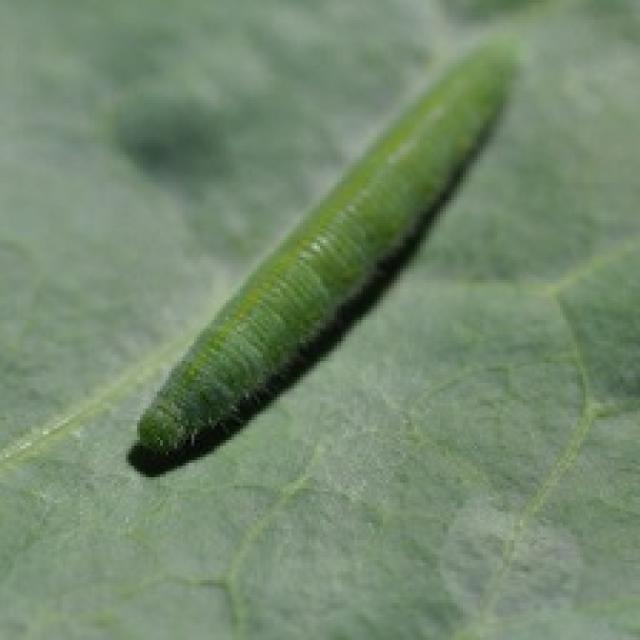Cabbage-worm: (128, 34, 530, 483)
